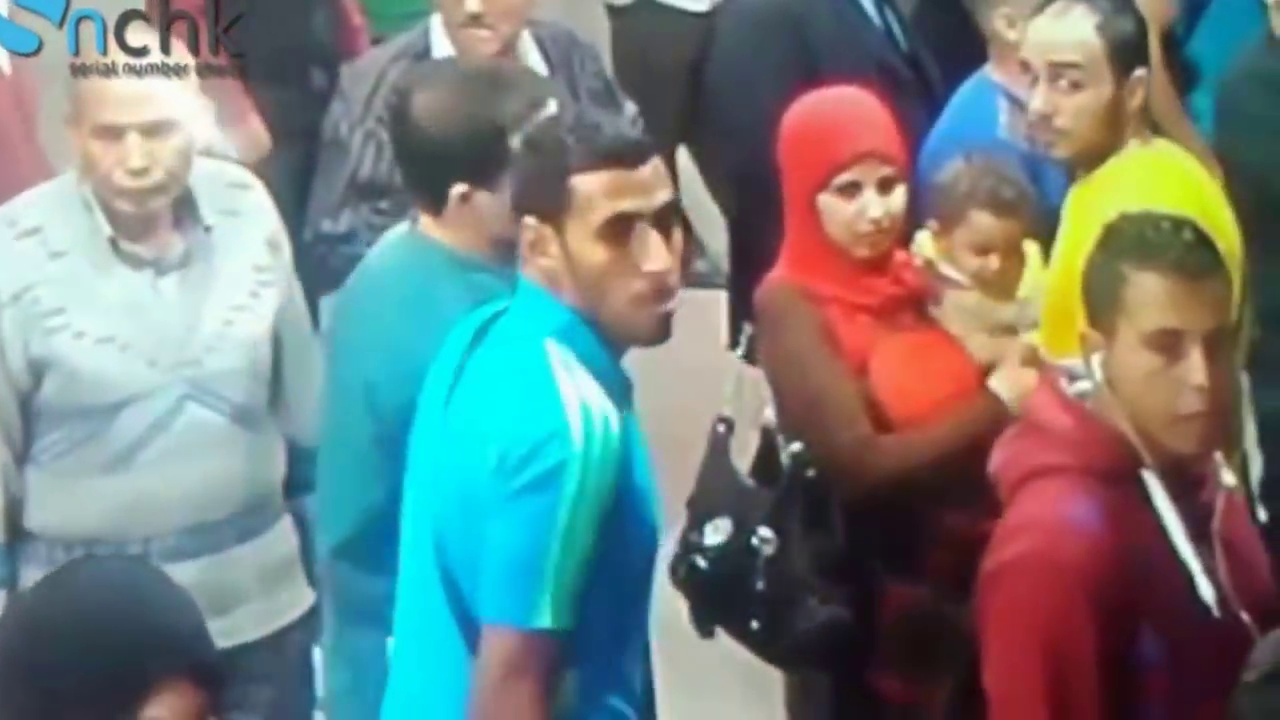face: (1104, 280, 1236, 461), (564, 178, 693, 333), (80, 98, 195, 213), (1018, 39, 1106, 174), (819, 163, 905, 262), (947, 207, 1024, 291)
